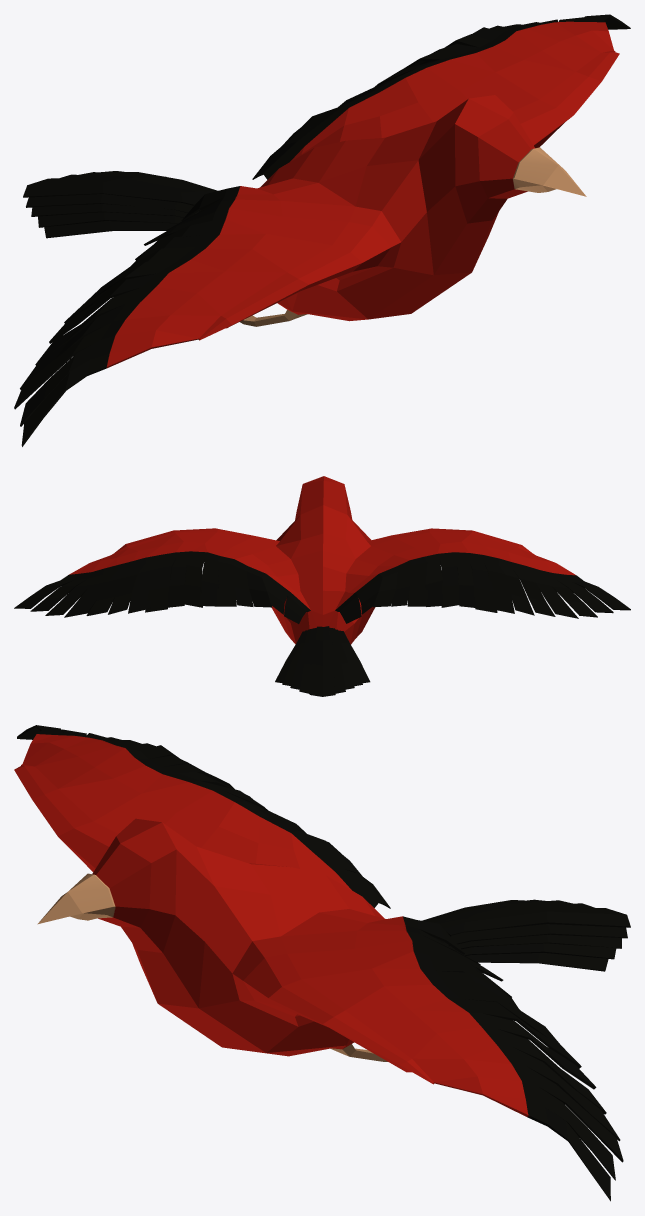
File: bird1.glb_bird1_0.glb
3 renders of one model, top to bottom at view 1: azimuth 30°, elevation 25°; view 2: azimuth 150°, elevation 25°; view 3: azimuth 270°, elevation 25°, orthographic. The views are drawn at different scales.
Parts seen in each view (by area): view 1: bird1.glb_bird1_0_merged; view 2: bird1.glb_bird1_0_merged; view 3: bird1.glb_bird1_0_merged.
Boxes of the visible parts, x1=… form: bird1.glb_bird1_0_merged: x1=14, y1=14, x2=630, y2=446; bird1.glb_bird1_0_merged: x1=14, y1=476, x2=630, y2=696; bird1.glb_bird1_0_merged: x1=14, y1=725, x2=630, y2=1201.
Size of the model in its own units: 0.279 by 0.0784 by 0.1594.
Materials: 1 (1 with a texture image).
